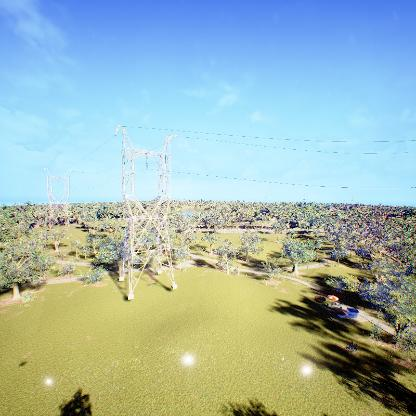tower: (112, 123, 180, 301), (38, 165, 75, 246)
